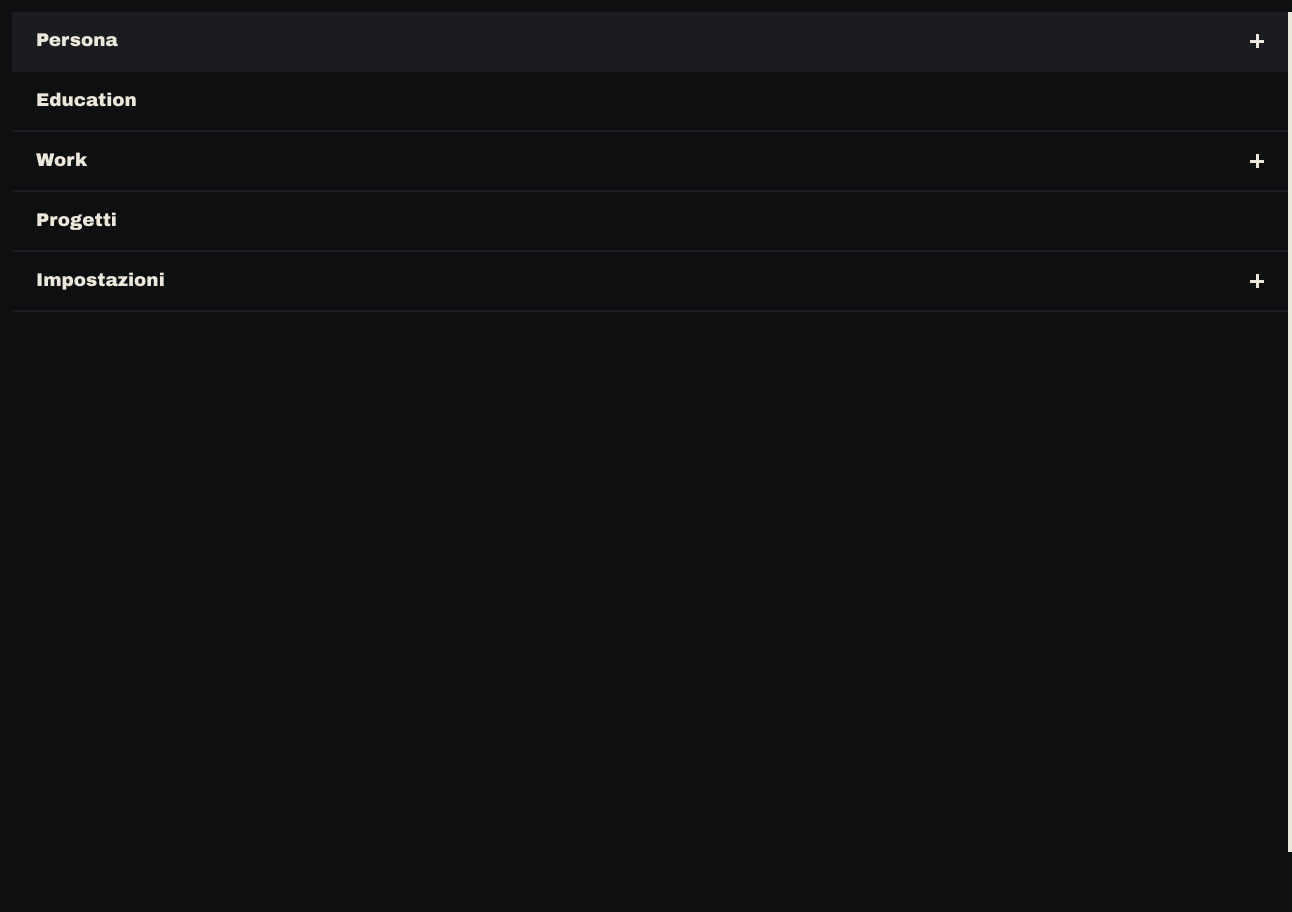
Test: Sidebar › keeps submenus collapsed until opened
expect the link "Overview" is not shown: met
Click the button "Persona".
click(77, 40)  # box [12,12,1288,70]
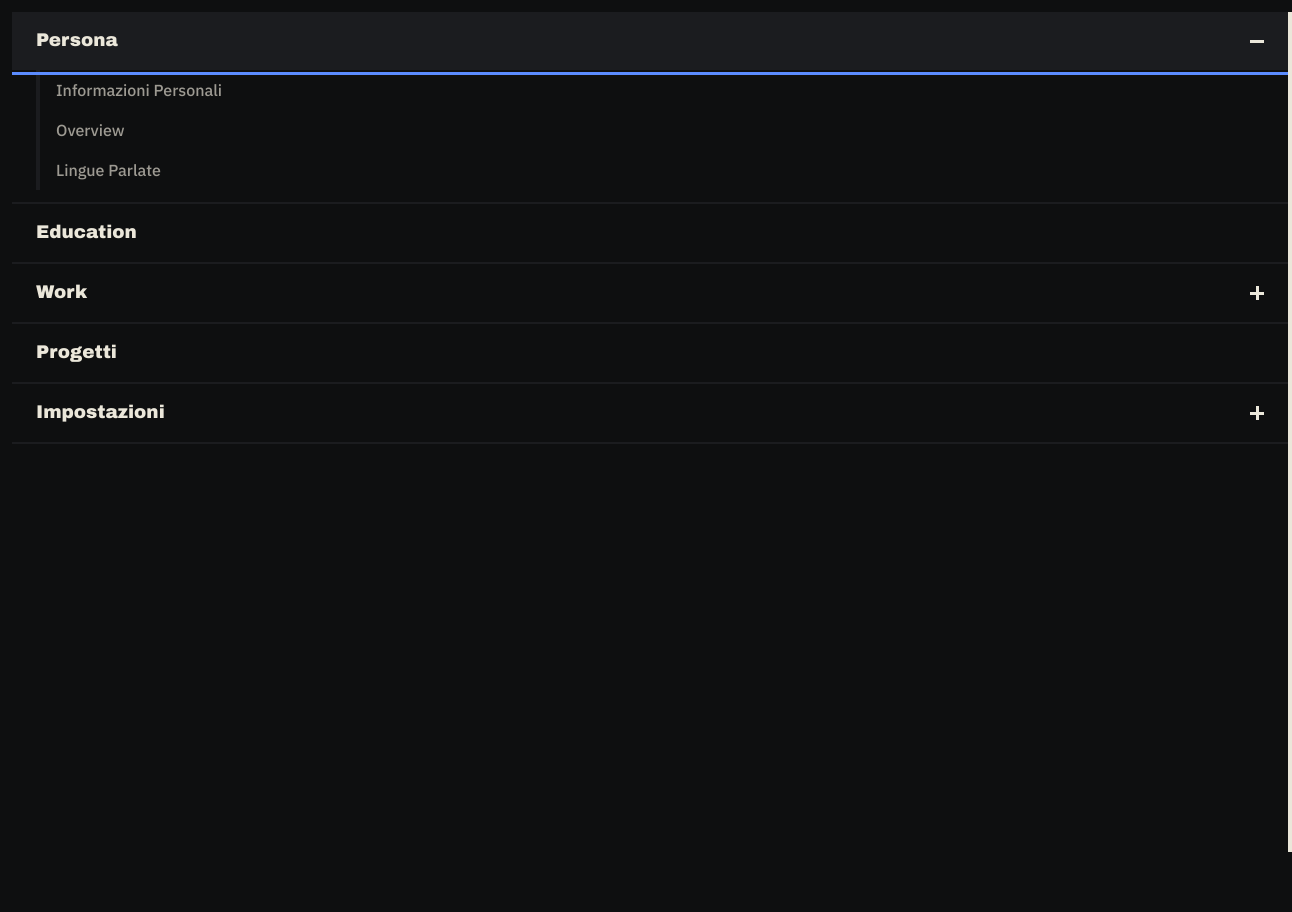
expect the button "Persona" is expanded: met, box [12,12,1288,70]
expect the link "Informazioni Personali" is shown: met, box [36,70,1288,110]
expect the link "Overview" is shown: met, box [36,110,1288,150]
